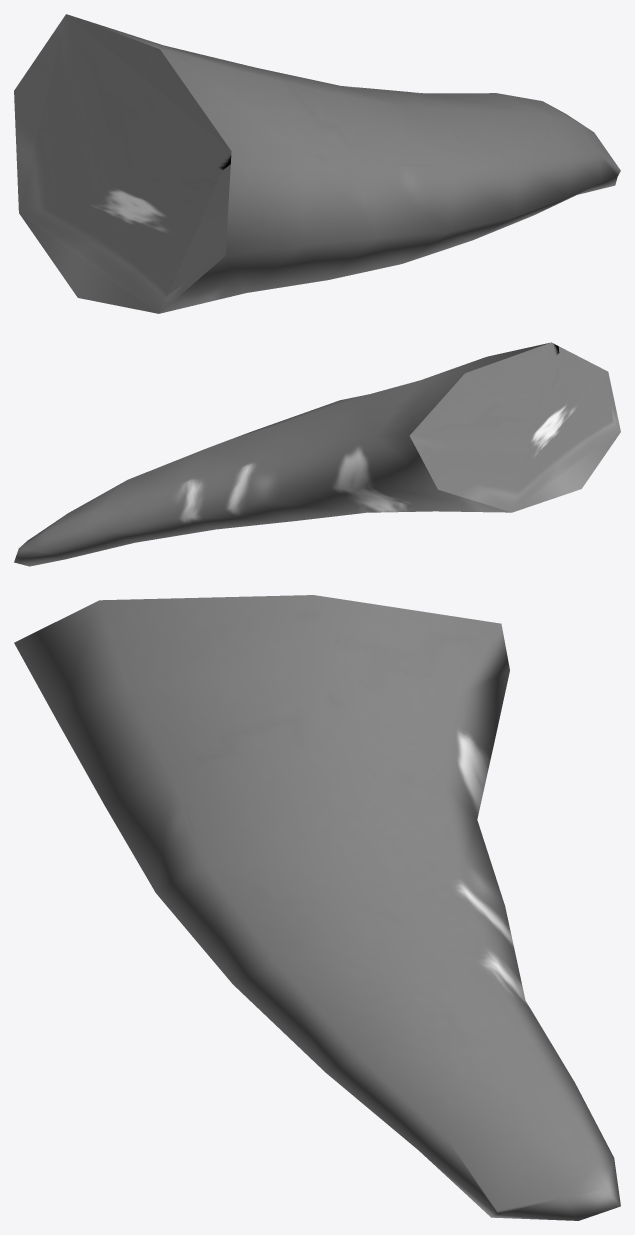
File: aletaI.obj
The picture shows the model from 3 angles, top to bottom: view 1: azimuth 30°, elevation 25°; view 2: azimuth 150°, elevation 25°; view 3: azimuth 270°, elevation 25°; orthographic projection. The views are drawn at different scales.
Parts seen in each view (by area): view 1: Shark_Mesh; view 2: Shark_Mesh; view 3: Shark_Mesh.
Boxes of the visible parts, bbox=[...] form: Shark_Mesh: bbox=[14, 14, 620, 313]; Shark_Mesh: bbox=[14, 342, 620, 566]; Shark_Mesh: bbox=[14, 595, 620, 1220].
Bounding box in the file's own units: 81.31 × 37.33 × 59.21.
Materials: 1 (1 with a texture image).
